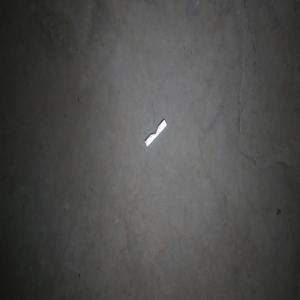ClampPart: (143, 117, 167, 148)
